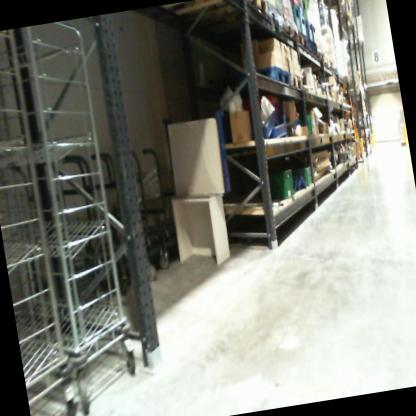pallet: (155, 0, 271, 38), (233, 63, 289, 89), (261, 3, 286, 34), (301, 31, 320, 62), (280, 20, 300, 48), (292, 28, 308, 56), (286, 70, 304, 91)
